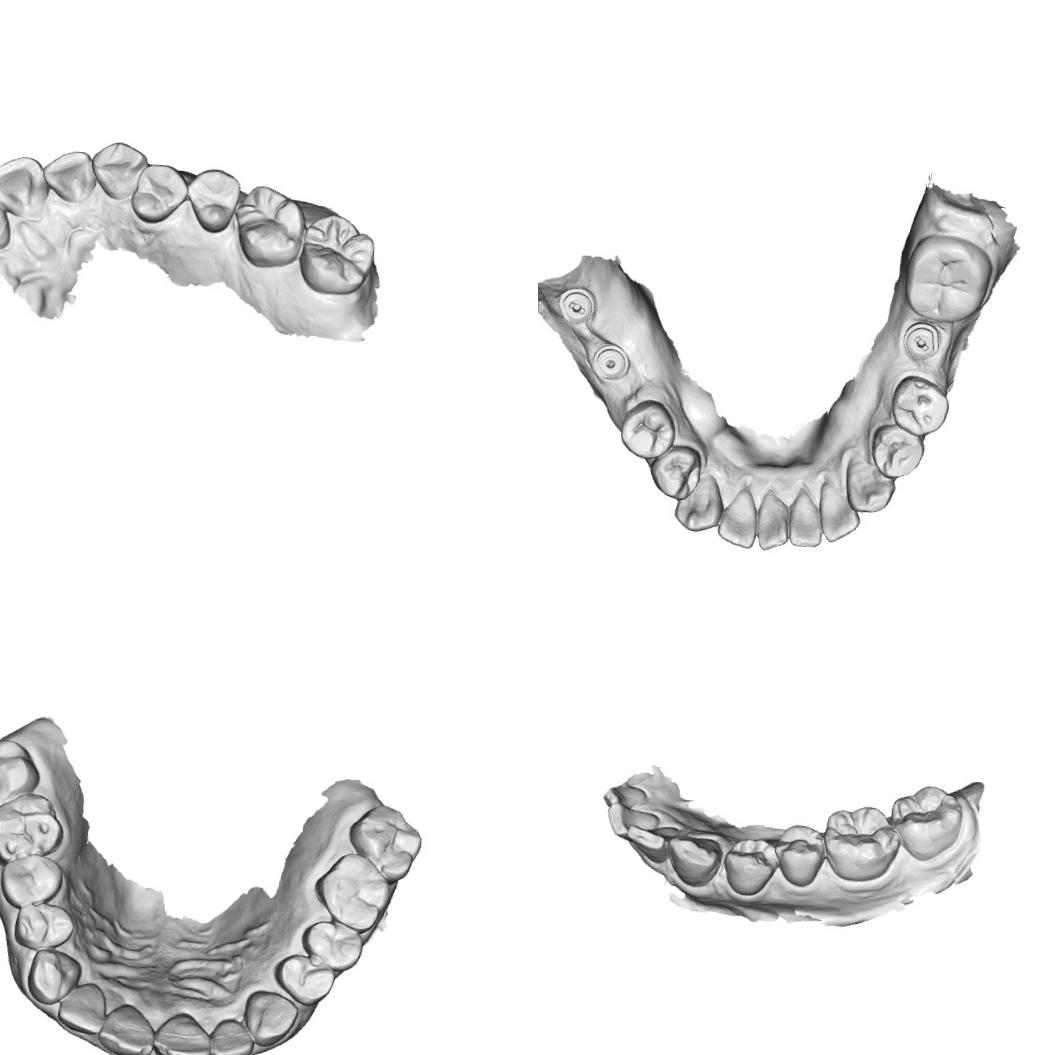canine: (86, 138, 150, 204), (23, 945, 84, 1008), (841, 450, 899, 515), (240, 987, 300, 1049), (662, 832, 723, 890), (671, 469, 725, 534)
implant: (589, 340, 632, 381)
implant_minus: (899, 318, 943, 364), (554, 282, 598, 326)
incisor: (0, 151, 52, 219), (94, 1000, 157, 1055), (40, 148, 100, 204), (814, 479, 864, 546), (54, 978, 110, 1036), (149, 1008, 214, 1055), (714, 482, 760, 548), (622, 819, 683, 866), (784, 484, 827, 548), (752, 488, 792, 554), (604, 800, 660, 840), (206, 1015, 256, 1055), (602, 782, 648, 810), (0, 181, 14, 253)
molar: (899, 232, 995, 326), (294, 210, 378, 300), (818, 800, 904, 887), (310, 848, 395, 935), (230, 180, 308, 272), (883, 780, 966, 865), (344, 800, 426, 886), (0, 788, 67, 871), (0, 734, 44, 823)
premolar: (887, 372, 953, 439), (183, 165, 243, 237), (126, 161, 190, 227), (718, 834, 782, 900), (0, 849, 65, 912), (616, 396, 678, 461), (866, 419, 927, 482), (272, 950, 337, 1009), (297, 918, 365, 973), (772, 820, 827, 888), (645, 440, 704, 503), (11, 897, 76, 953)
